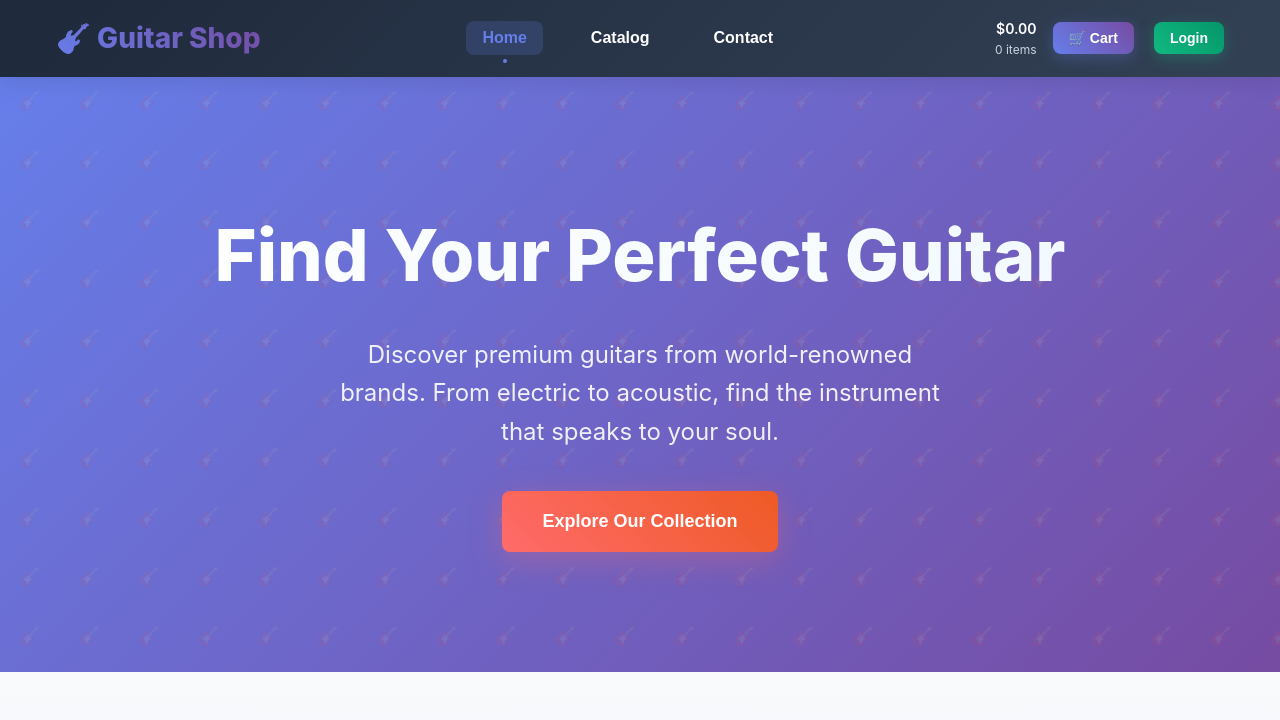
it: Homepage › should navigate to catalog from hero button
The width and height of the screenshot is (1280, 720).
Click the button "Explore Our Collection" at {"x": 641, "y": 522}, box [503, 491, 778, 552]
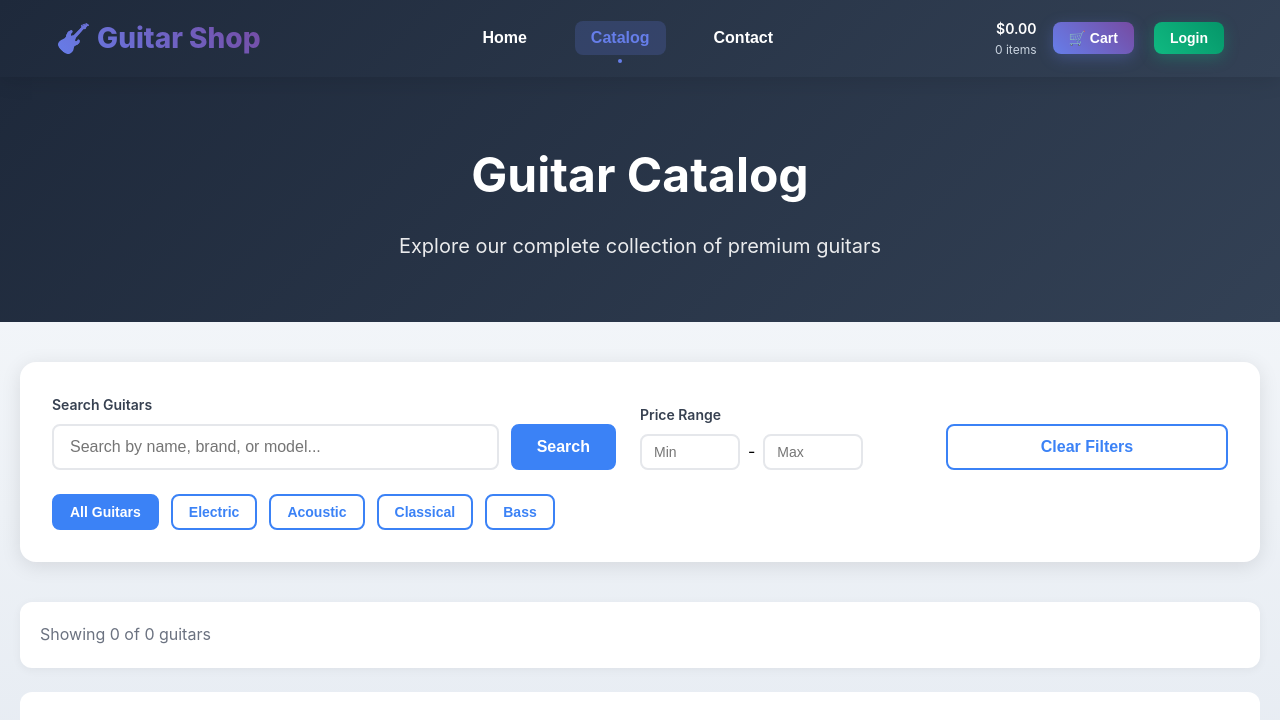
expect the heading "Guitar Catalog" is shown: met, box [471, 145, 809, 204]
